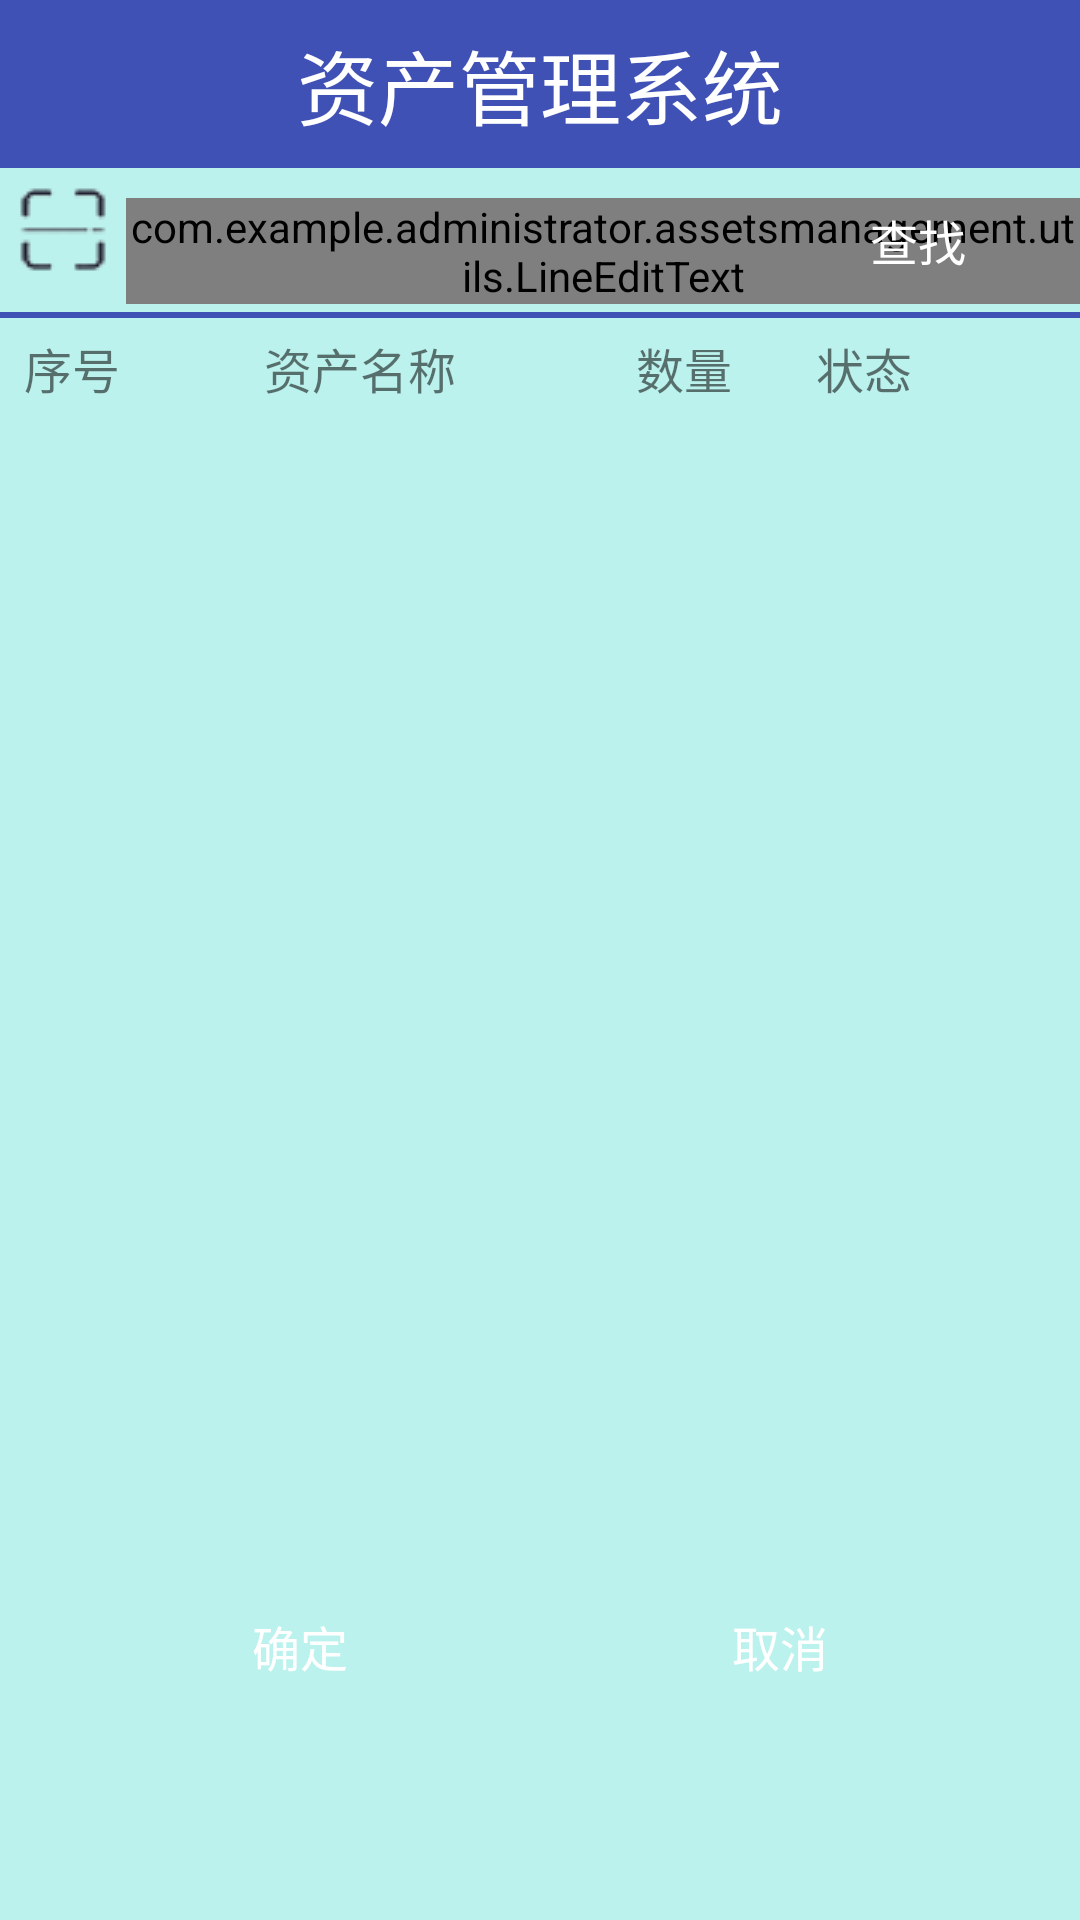

Screen size 1080*1920. Icon name, then its center in pixels as (x,y):
scanonescan: (63,229)
